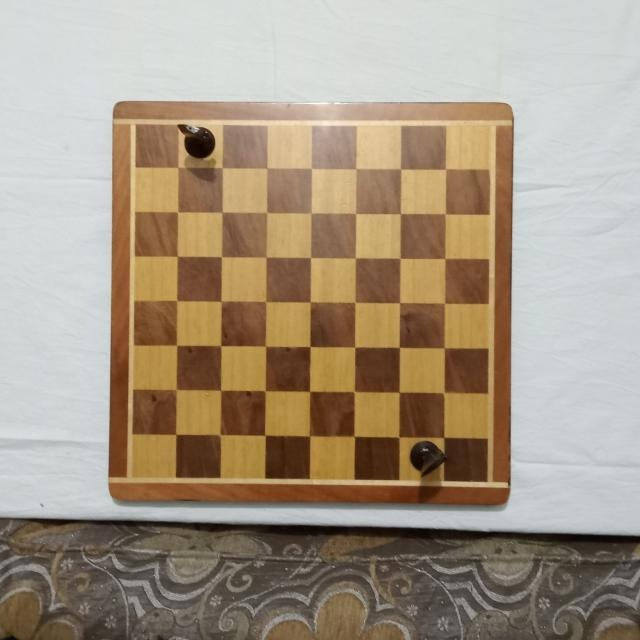black-knight: (177, 123, 217, 161), (408, 438, 446, 475)
